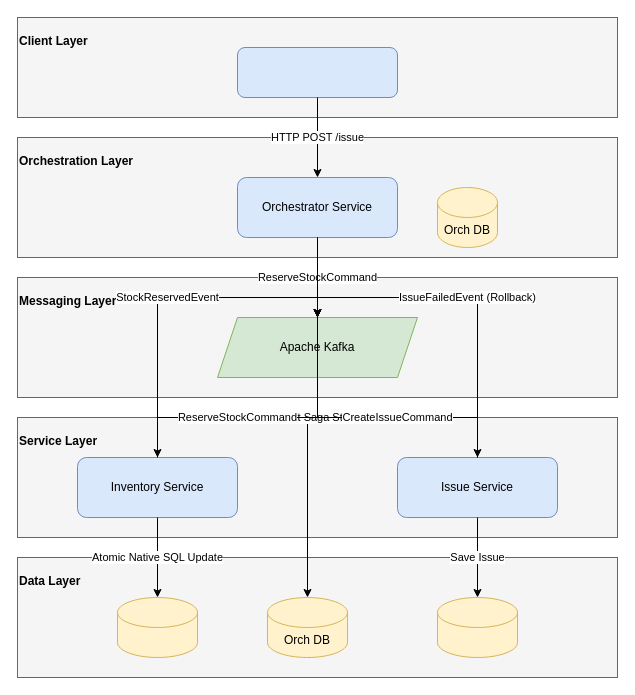
The diagram is 635 pixels wide and 695 high, and some of its shapes have lost their labels. Here are the shapes that lost their labels. From the top down, the centre of each, then its label:
At point 317,72: "React Frontend".
At point 157,627: "Inventory DB".
At point 477,627: "Issue DB".
